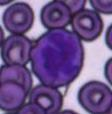E: (30, 28, 84, 85)
